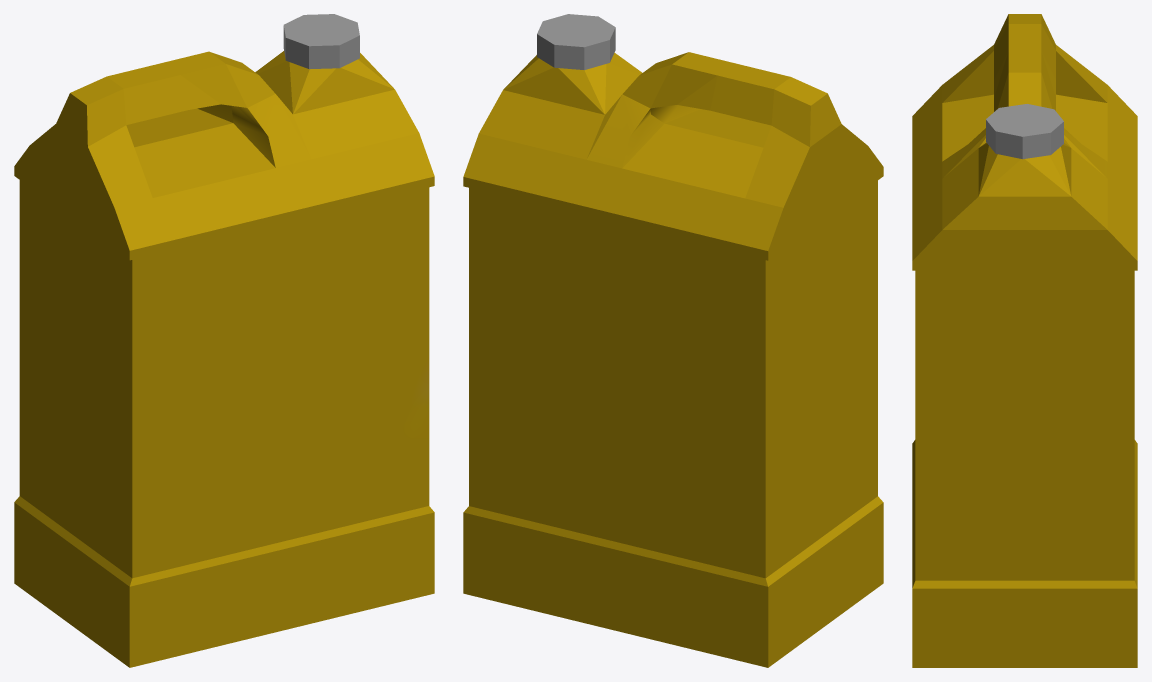
Rendered from Prop_OilContainer_v01.fbx.
The picture shows the model from 3 angles, left to right: view 1: azimuth 30°, elevation 25°; view 2: azimuth 150°, elevation 25°; view 3: azimuth 270°, elevation 25°; orthographic projection. The views are drawn at different scales.
Parts seen in each view (by area): view 1: Oil_Container_Body, Oil_Container_Cap; view 2: Oil_Container_Body, Oil_Container_Cap; view 3: Oil_Container_Body, Oil_Container_Cap.
Boxes of the visible parts, left/top/right/bottom form: Oil_Container_Body: left=14, top=51, right=434, bottom=667; Oil_Container_Cap: left=283, top=14, right=359, bottom=69; Oil_Container_Body: left=463, top=52, right=883, bottom=667; Oil_Container_Cap: left=537, top=14, right=615, bottom=70; Oil_Container_Body: left=912, top=14, right=1137, bottom=667; Oil_Container_Cap: left=986, top=104, right=1063, bottom=159.
Bounding box in the file's own units: 7.18 × 12.03 × 4.71.
1 material, 1 textured.
